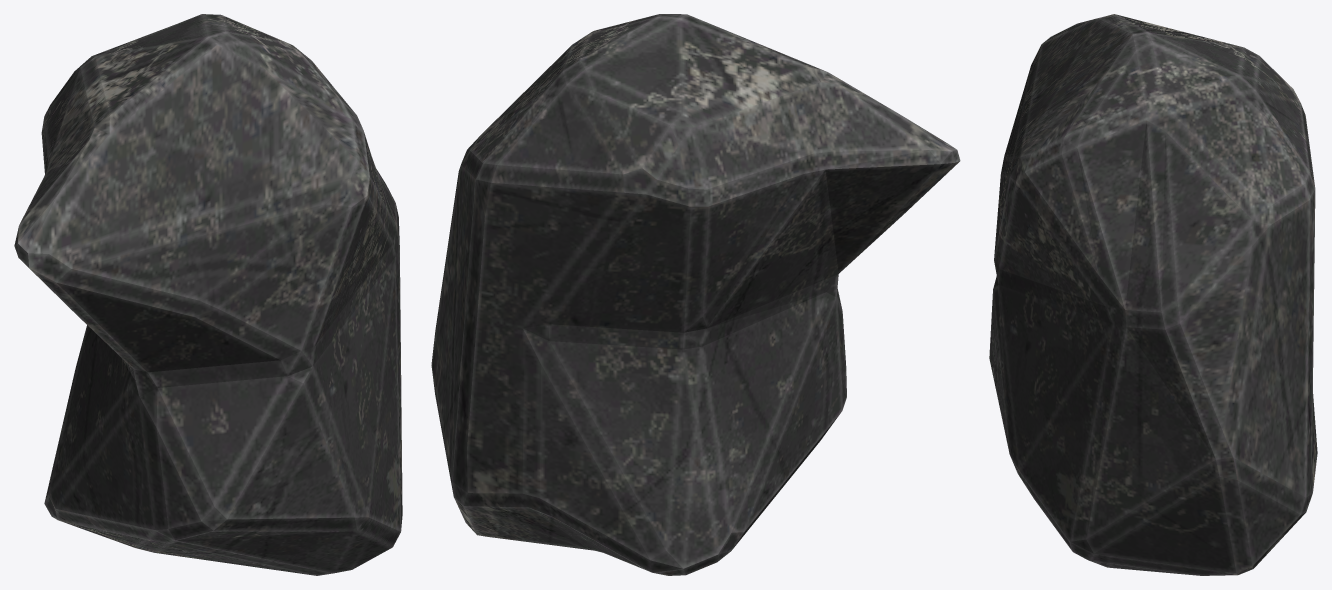
The model's file is CoalOre.glb.
The picture shows the model from 3 angles, left to right: view 1: azimuth 30°, elevation 25°; view 2: azimuth 150°, elevation 25°; view 3: azimuth 270°, elevation 25°; orthographic projection. The views are drawn at different scales.
Visible parts, largest first — view 1: CoalOre; view 2: CoalOre; view 3: CoalOre.
Boxes of the visible parts, x1,y1,x2,y2 form: CoalOre: [14, 14, 402, 575]; CoalOre: [431, 14, 960, 575]; CoalOre: [989, 14, 1317, 575].
Bounding box in the file's own units: 0.2837 × 0.3299 × 0.2013.
Materials: 1 (1 with a texture image).
